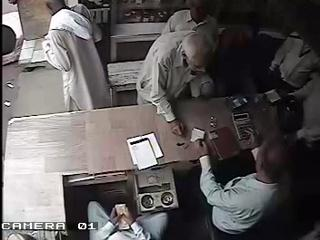Normal: (185, 133, 292, 240), (136, 29, 218, 138), (42, 0, 112, 111), (161, 0, 220, 48)
